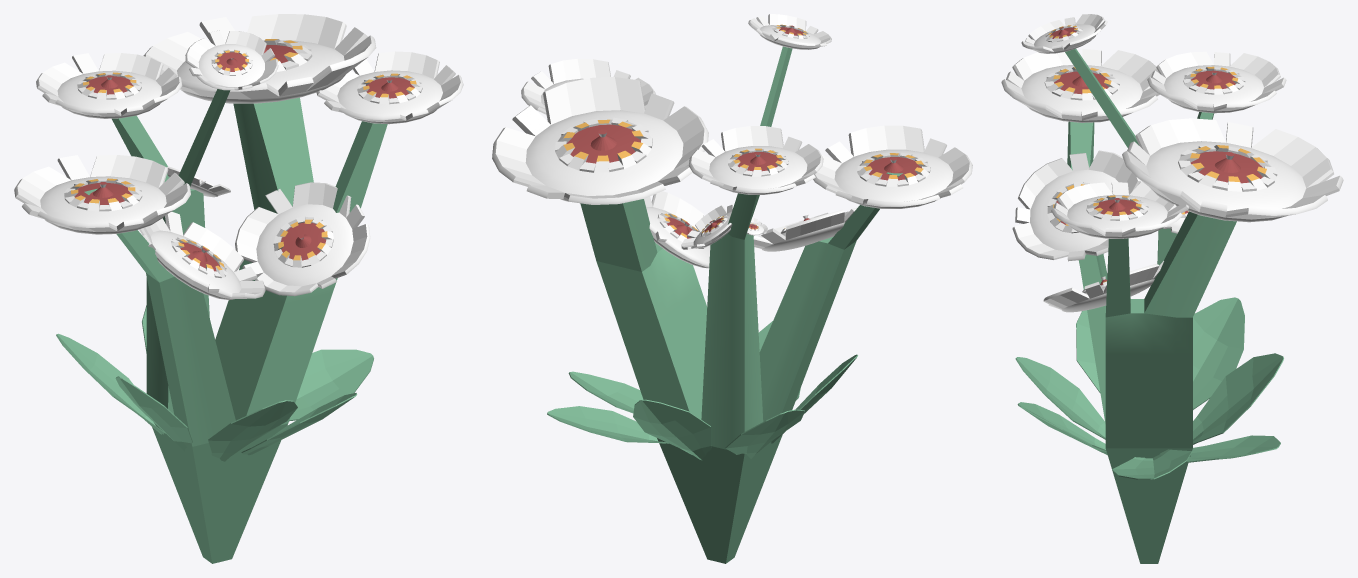
The model's file is Wax_Flower.fbx.
3 views of the same model, side by side, from view 1: azimuth 30°, elevation 25°; view 2: azimuth 150°, elevation 25°; view 3: azimuth 270°, elevation 25° (orthographic). The views are drawn at different scales.
Visible parts, largest first — view 1: body, flower6, flower2, flower1, flower4, flower5, flower, flower3, Leaf.006, Leaf.007, Leaf.009, Leaf.008 (+2 smaller); view 2: body, flower2, flower1, flower5, flower6, Leaf.004, flower4, flower, Leaf.005, flower3, Leaf.009, Leaf.006 (+2 smaller); view 3: body, flower2, flower1, flower, flower5, flower4, Leaf.009, Leaf.004, Leaf.007, flower3, flower6, Leaf.005 (+3 smaller).
Part boxes in pixels (bbox=[...]): body: bbox=[84, 89, 387, 563]; flower6: bbox=[235, 182, 370, 296]; flower2: bbox=[143, 14, 376, 103]; flower1: bbox=[14, 155, 190, 234]; flower4: bbox=[316, 51, 463, 124]; flower5: bbox=[36, 53, 182, 118]; flower: bbox=[139, 211, 265, 299]; flower3: bbox=[185, 30, 278, 90]; Leaf.006: bbox=[289, 349, 373, 421]; Leaf.007: bbox=[208, 400, 297, 461]; Leaf.009: bbox=[56, 333, 165, 434]; Leaf.008: bbox=[115, 376, 192, 451]; body: bbox=[580, 46, 902, 563]; flower2: bbox=[492, 77, 708, 204]; flower1: bbox=[813, 125, 972, 208]; flower5: bbox=[689, 126, 823, 194]; flower6: bbox=[644, 191, 710, 268]; Leaf.004: bbox=[633, 399, 711, 460]; flower4: bbox=[521, 58, 655, 114]; flower: bbox=[753, 207, 857, 251]; Leaf.005: bbox=[547, 406, 668, 443]; flower3: bbox=[748, 14, 831, 49]; Leaf.009: bbox=[725, 409, 804, 458]; Leaf.006: bbox=[568, 371, 643, 413]; body: bbox=[1065, 48, 1236, 563]; flower2: bbox=[1122, 118, 1343, 222]; flower1: bbox=[1001, 48, 1159, 122]; flower: bbox=[1012, 150, 1140, 261]; flower5: bbox=[1147, 51, 1286, 113]; flower4: bbox=[1051, 181, 1188, 238]; Leaf.009: bbox=[1193, 297, 1244, 409]; Leaf.004: bbox=[1193, 353, 1283, 444]; Leaf.007: bbox=[1015, 357, 1105, 439]; flower3: bbox=[1021, 14, 1107, 53]; flower6: bbox=[1043, 261, 1163, 312]; Leaf.005: bbox=[1186, 435, 1280, 462].
Bounding box in the file's own units: 1.59 × 1.9 × 1.12.
